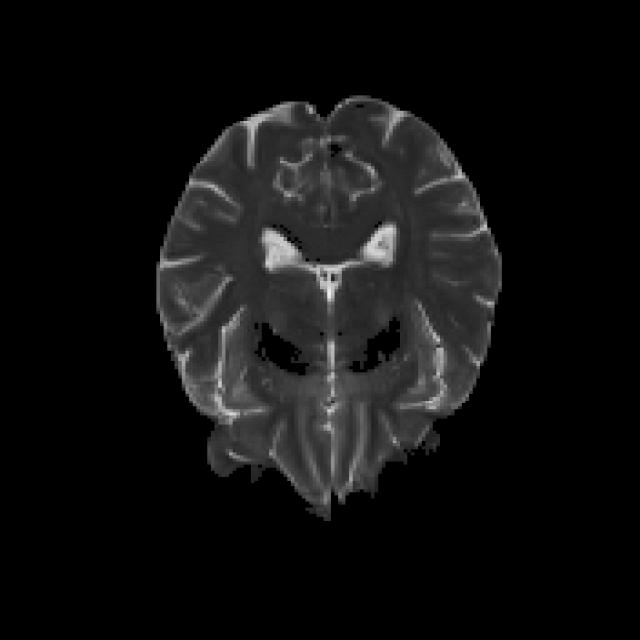parkinson: (153, 92, 502, 517)
